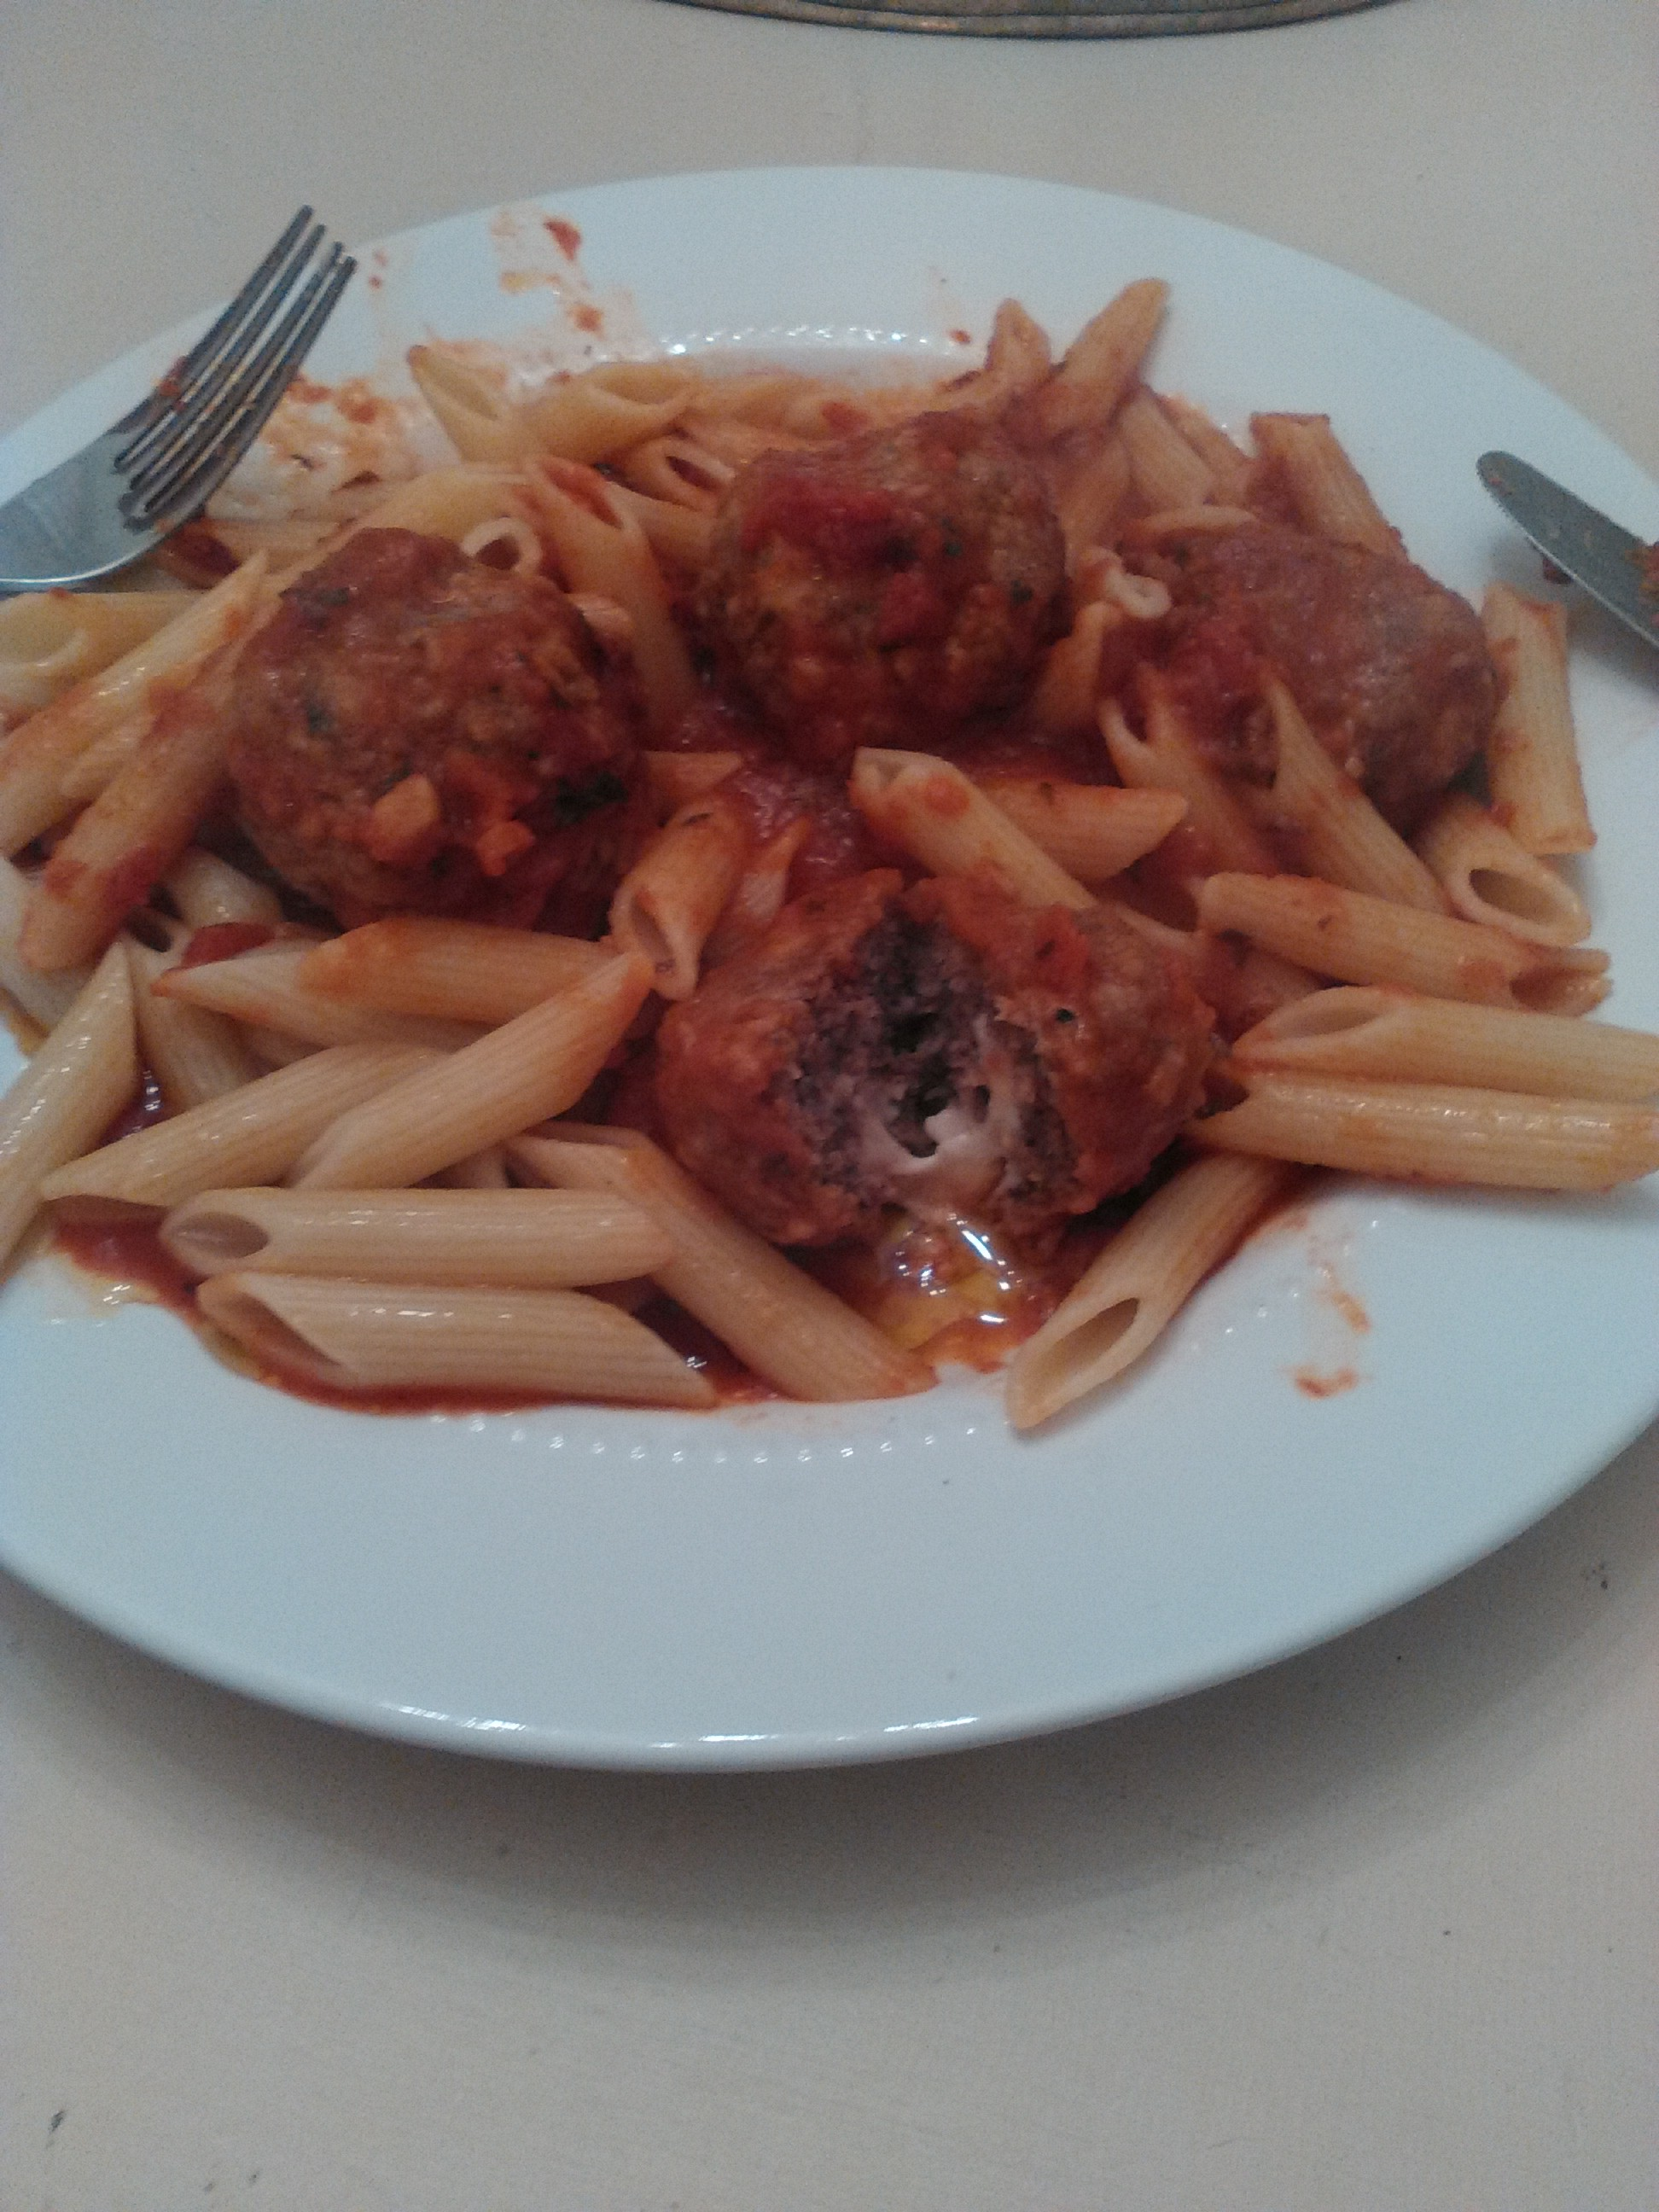meatballs: (659, 874, 1204, 1209), (239, 533, 645, 932), (687, 430, 1100, 772), (1195, 536, 1502, 812)
plain spaghetti: (42, 857, 823, 1413)
